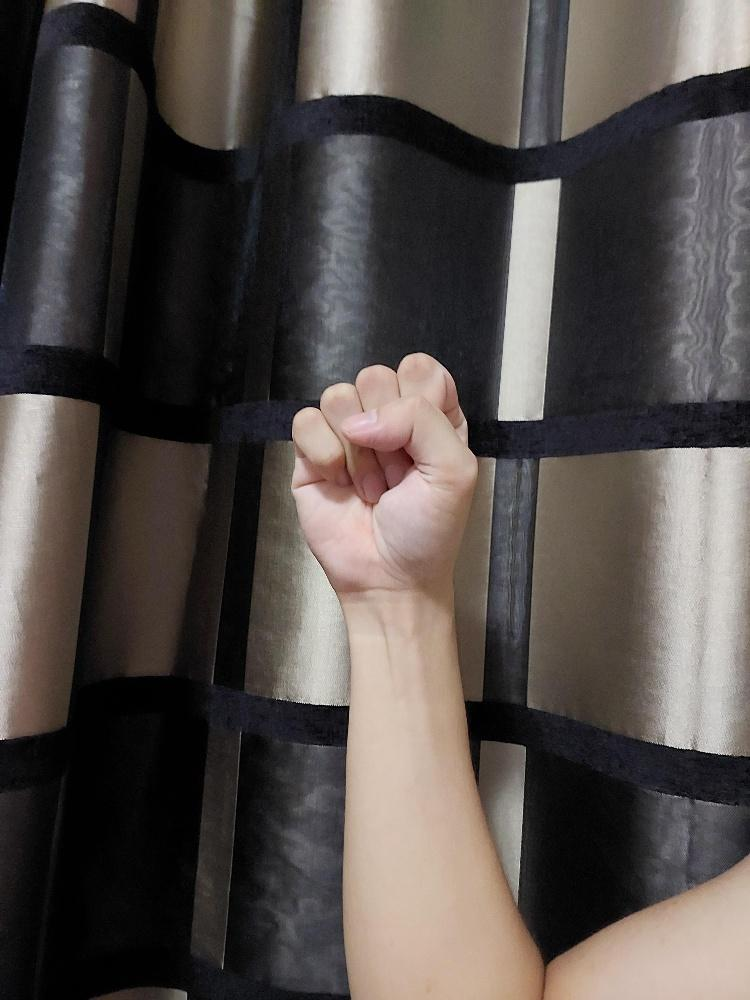s: (288, 349, 480, 593)
